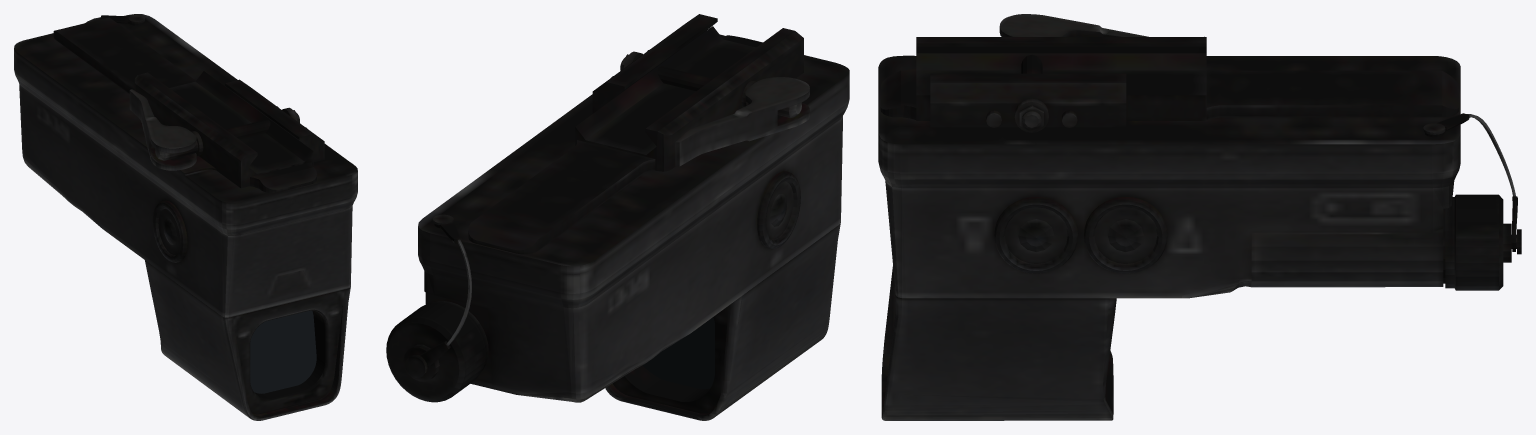
The picture shows the model from 3 angles, left to right: view 1: azimuth 30°, elevation 25°; view 2: azimuth 150°, elevation 25°; view 3: azimuth 270°, elevation 25°; orthographic projection. The views are drawn at different scales.
Visible parts, largest first — view 1: TW_609a63b6e2ff132951242d09_PZ_Import; view 2: TW_609a63b6e2ff132951242d09_PZ_Import; view 3: TW_609a63b6e2ff132951242d09_PZ_Import.
Boxes of the visible parts, x1=… form: TW_609a63b6e2ff132951242d09_PZ_Import: x1=14, y1=14, x2=357, y2=420; TW_609a63b6e2ff132951242d09_PZ_Import: x1=386, y1=14, x2=849, y2=420; TW_609a63b6e2ff132951242d09_PZ_Import: x1=878, y1=14, x2=1521, y2=420.
Bounding box in the file's own units: 0.0302 × 0.0813 × 0.0474.
Materials: 1 (1 with a texture image).
